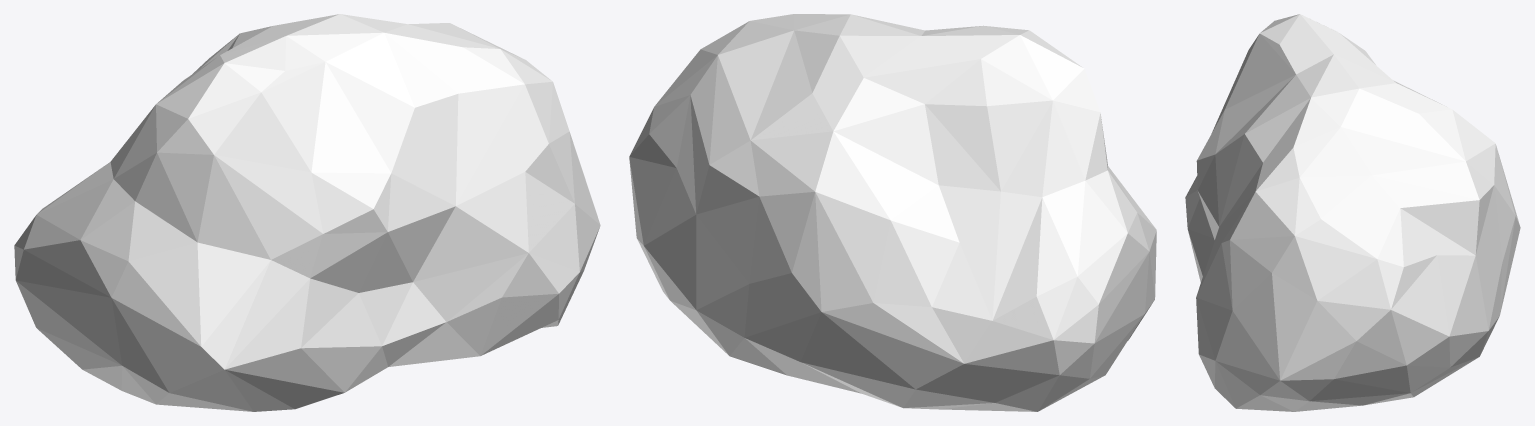
File: cloud4.fbx
3 views of the same model, side by side, from view 1: azimuth 30°, elevation 25°; view 2: azimuth 150°, elevation 25°; view 3: azimuth 270°, elevation 25° (orthographic). The views are drawn at different scales.
Visible parts, largest first — view 1: Cloud_04; view 2: Cloud_04; view 3: Cloud_04.
Boxes of the visible parts, box(x1,y1,x2,y2) form: Cloud_04: box(14, 14, 600, 411); Cloud_04: box(629, 14, 1156, 411); Cloud_04: box(1185, 14, 1520, 411).
Size of the model in its own units: 169 by 106 by 111.
